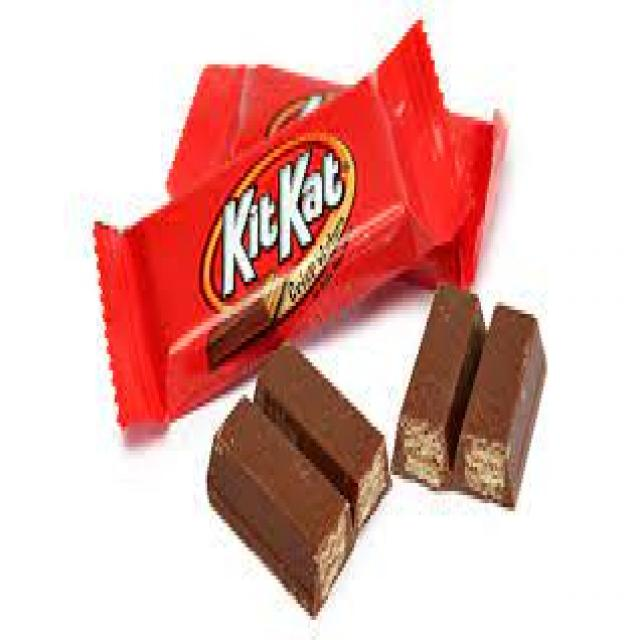kitkat: (91, 17, 464, 433)
